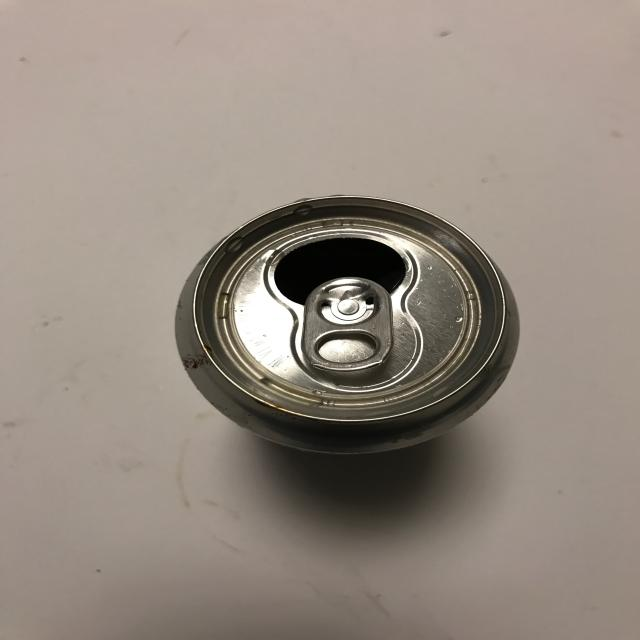metal: (174, 194, 520, 456)
